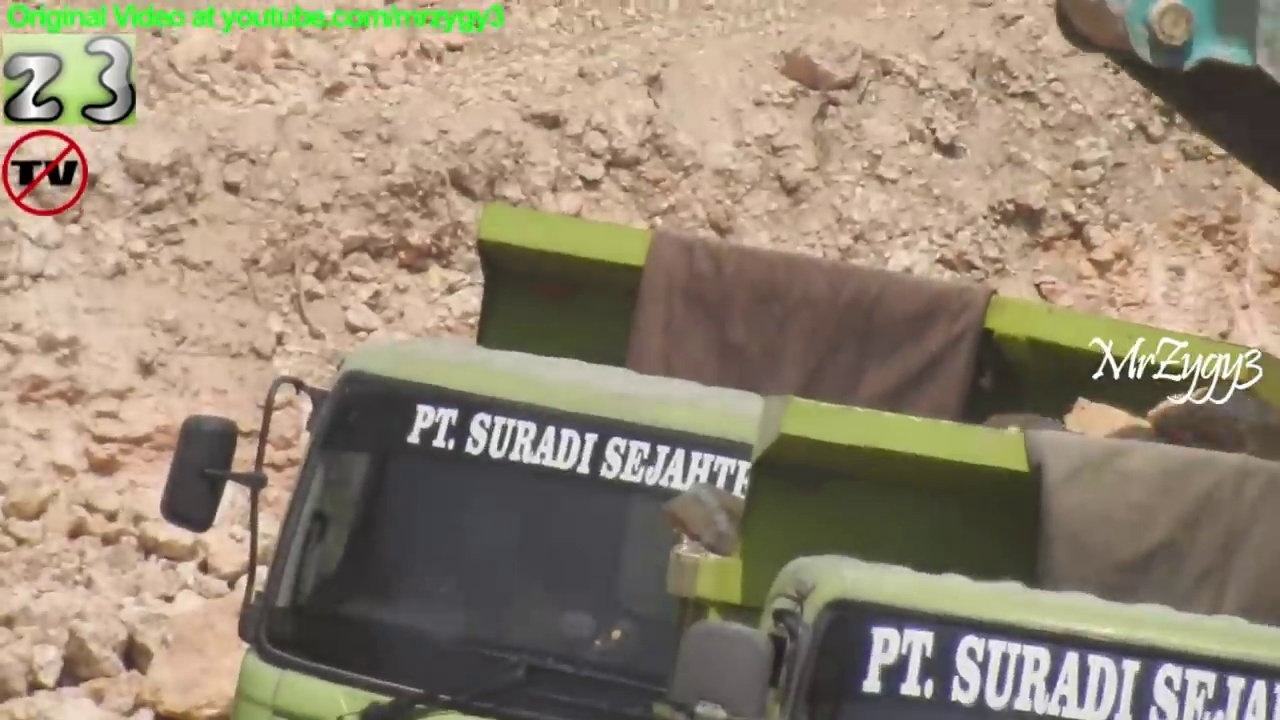truck: (154, 193, 1280, 720), (657, 388, 1280, 720)
